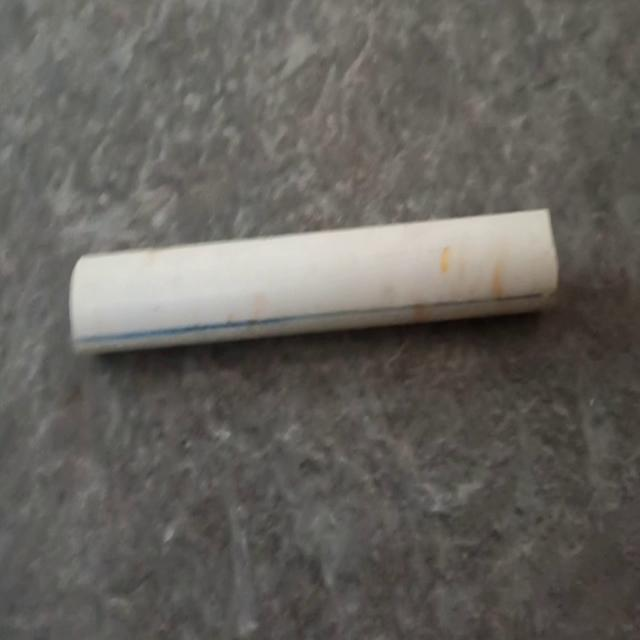Cube: (68, 205, 560, 356)
